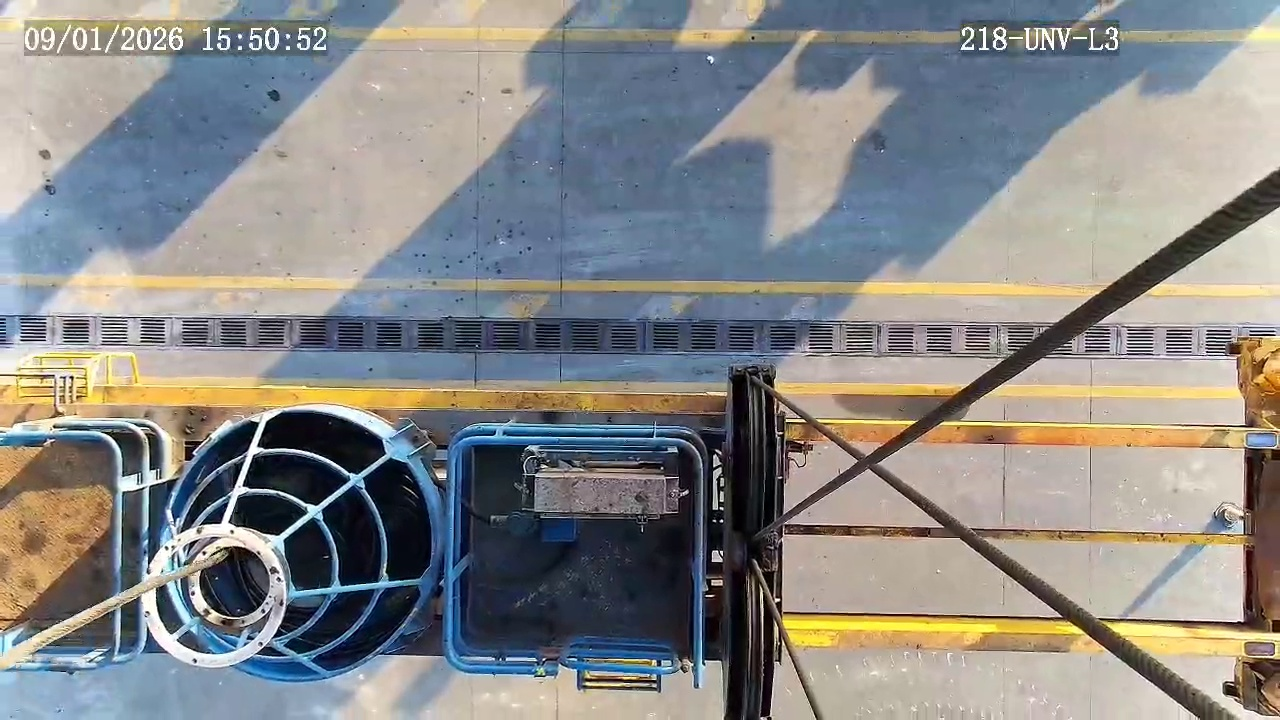right: (141, 524, 286, 668)
